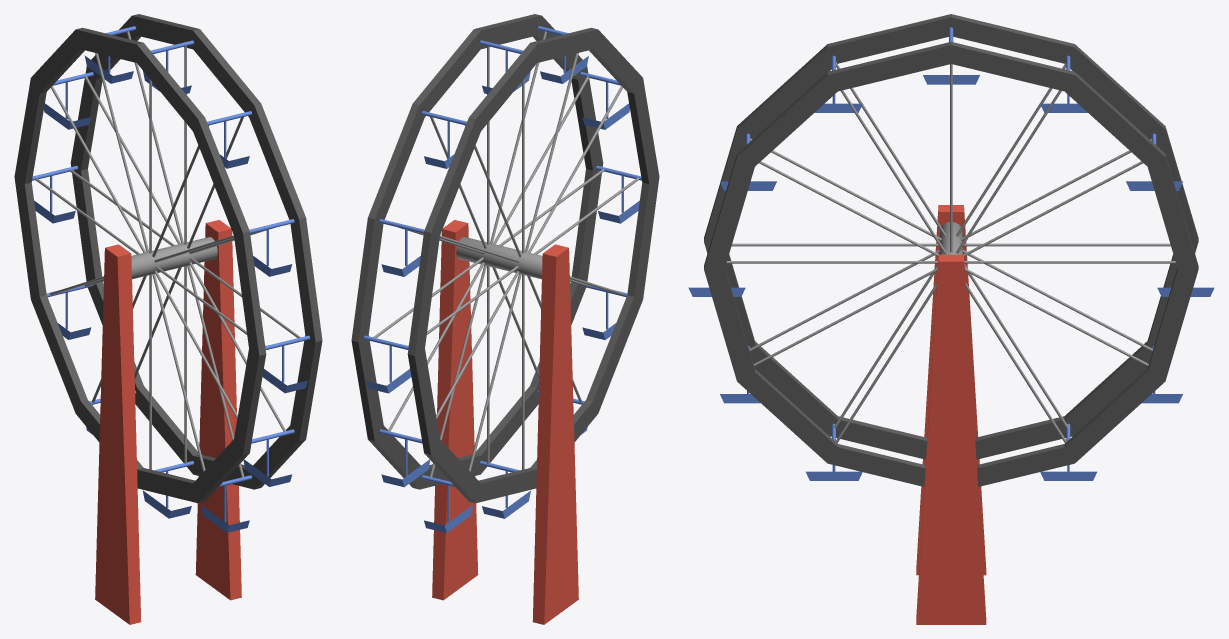
Rendered from Wheel.glb.
3 renders of one model, left to right at view 1: azimuth 30°, elevation 25°; view 2: azimuth 150°, elevation 25°; view 3: azimuth 270°, elevation 25°, orthographic.
Visible parts, largest first — view 1: Circle.001, Cube, Plane.001, Plane, Cylinder, Plane.015, Plane.012, Plane.018, Plane.026, Plane.025, Plane.009, Plane.017 (+3 smaller); view 2: Circle.001, Cube, Plane.001, Plane, Cylinder, Plane.024, Plane.025, Plane.009, Plane.012, Plane.026, Plane.017, Plane.006 (+3 smaller); view 3: Circle.001, Cube, Plane, Plane.001.
Part boxes in pixels (x1=…): Circle.001: x1=14, y1=14, x2=322, y2=503; Cube: x1=95, y1=220, x2=241, y2=624; Plane.001: x1=34, y1=53, x2=265, y2=471; Plane: x1=69, y1=31, x2=300, y2=477; Cylinder: x1=131, y1=237, x2=217, y2=279; Plane.015: x1=243, y1=429, x2=294, y2=486; Plane.012: x1=262, y1=335, x2=310, y2=393; Plane.018: x1=201, y1=475, x2=252, y2=532; Plane.026: x1=44, y1=72, x2=93, y2=129; Plane.025: x1=32, y1=165, x2=78, y2=223; Plane.009: x1=249, y1=219, x2=294, y2=276; Plane.017: x1=142, y1=461, x2=194, y2=518; Circle.001: x1=351, y1=14, x2=659, y2=503; Cube: x1=432, y1=220, x2=578, y2=624; Plane.001: x1=408, y1=53, x2=639, y2=471; Plane: x1=373, y1=31, x2=604, y2=477; Cylinder: x1=456, y1=237, x2=542, y2=279; Plane.024: x1=379, y1=429, x2=430, y2=487; Plane.025: x1=364, y1=335, x2=411, y2=393; Plane.009: x1=580, y1=72, x2=629, y2=129; Plane.012: x1=596, y1=165, x2=641, y2=223; Plane.026: x1=379, y1=219, x2=424, y2=276; Plane.017: x1=480, y1=461, x2=530, y2=518; Plane.006: x1=538, y1=26, x2=588, y2=83; Circle.001: x1=704, y1=14, x2=1198, y2=486; Cube: x1=916, y1=205, x2=986, y2=624; Plane: x1=726, y1=64, x2=1175, y2=442; Plane.001: x1=731, y1=62, x2=1170, y2=428.
Size of the model in its own units: 1.33 by 6.23 by 5.24.
